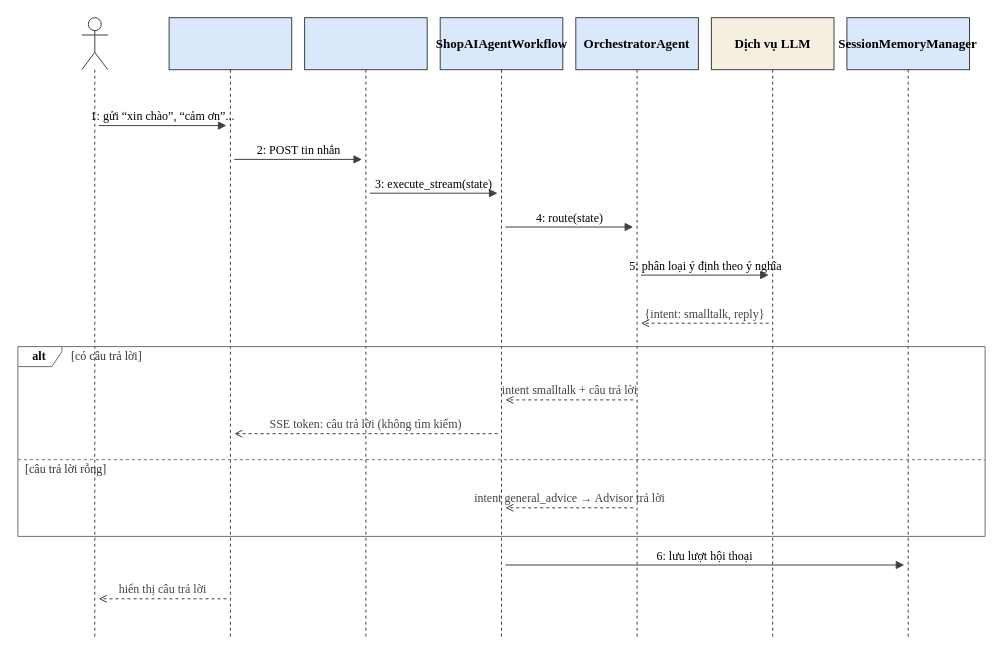
Some shapes in this 1004 by 656 pixel diagram are drawn without their labels. The box of each missing label's shape, as (x1, y1, x2, y2) in pixels:
API /api/chat/stream: (304, 17, 427, 638)
Giao diện (React): (168, 17, 292, 638)
Người dùng: (81, 17, 108, 638)
